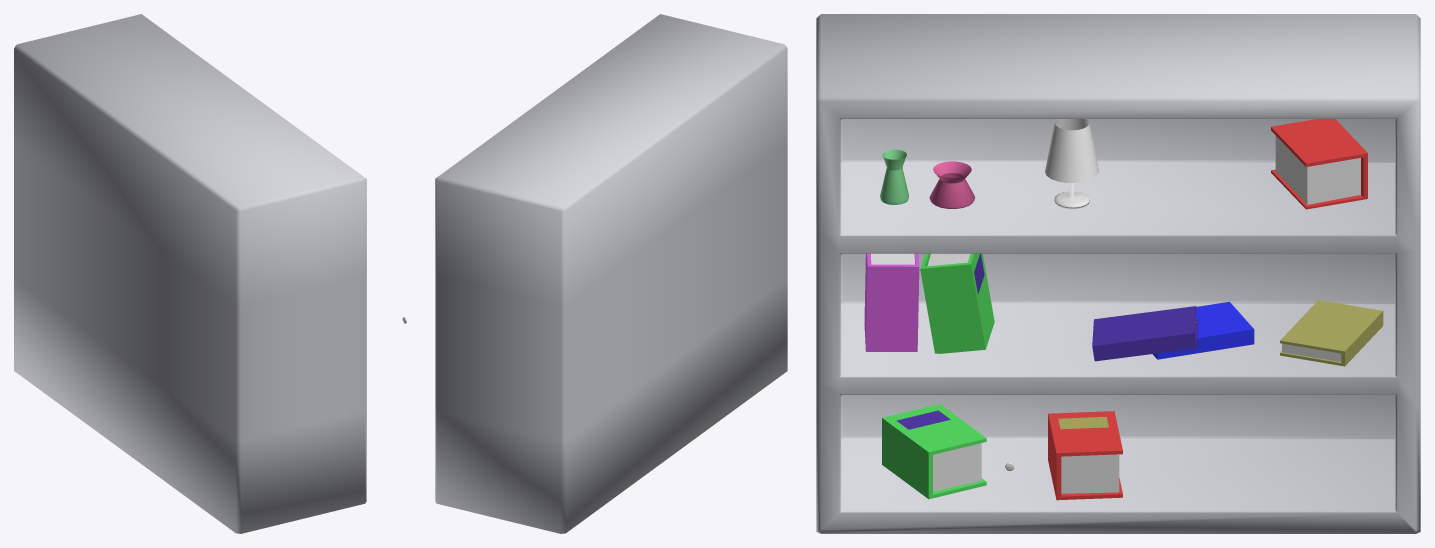
Rendered from regal_mit_books.fbx.
The picture shows the model from 3 angles, left to right: view 1: azimuth 30°, elevation 25°; view 2: azimuth 150°, elevation 25°; view 3: azimuth 270°, elevation 25°; orthographic projection. The views are drawn at different scales.
Parts seen in each view (by area): view 1: Box; view 2: Box; view 3: Box, Buch_green.001, Buch_rot.002, Buch_green.003, Buch_rot, Buch_magenta.002, Buch_kl_yellow.001, Buch_kl_hellblau.001, Cylinder.007, Buch_kl_blau.001, Cylinder.006, Cylinder.005.
Part boxes in pixels (left/top/right/bottom): Box: left=14, top=14, right=366, bottom=533; Box: left=435, top=14, right=787, bottom=533; Box: left=816, top=14, right=1420, bottom=533; Buch_green.001: left=882, top=404, right=986, bottom=499; Buch_rot.002: left=1271, top=119, right=1367, bottom=209; Buch_green.003: left=920, top=253, right=994, bottom=353; Buch_rot: left=1048, top=411, right=1122, bottom=500; Buch_magenta.002: left=864, top=253, right=919, bottom=351; Buch_kl_yellow.001: left=1280, top=300, right=1383, bottom=366; Buch_kl_hellblau.001: left=1092, top=306, right=1198, bottom=361; Cylinder.007: left=1045, top=119, right=1099, bottom=209; Buch_kl_blau.001: left=1152, top=301, right=1254, bottom=359; Cylinder.006: left=929, top=161, right=975, bottom=208; Cylinder.005: left=880, top=149, right=908, bottom=204.
Bounding box in the file's own units: 832 × 1080 × 1355.
